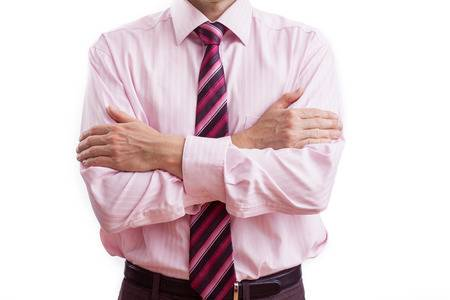F_shirt: (75, 1, 346, 281)
F_tie: (180, 29, 238, 297)
